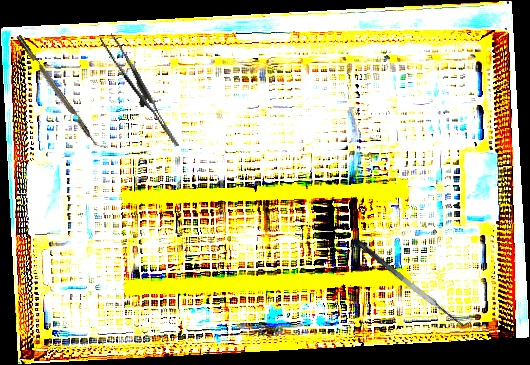Chopper: (16, 30, 108, 155)
Spatula Surgical: (355, 230, 473, 334)
Tissue Forceps: (99, 27, 180, 157)
